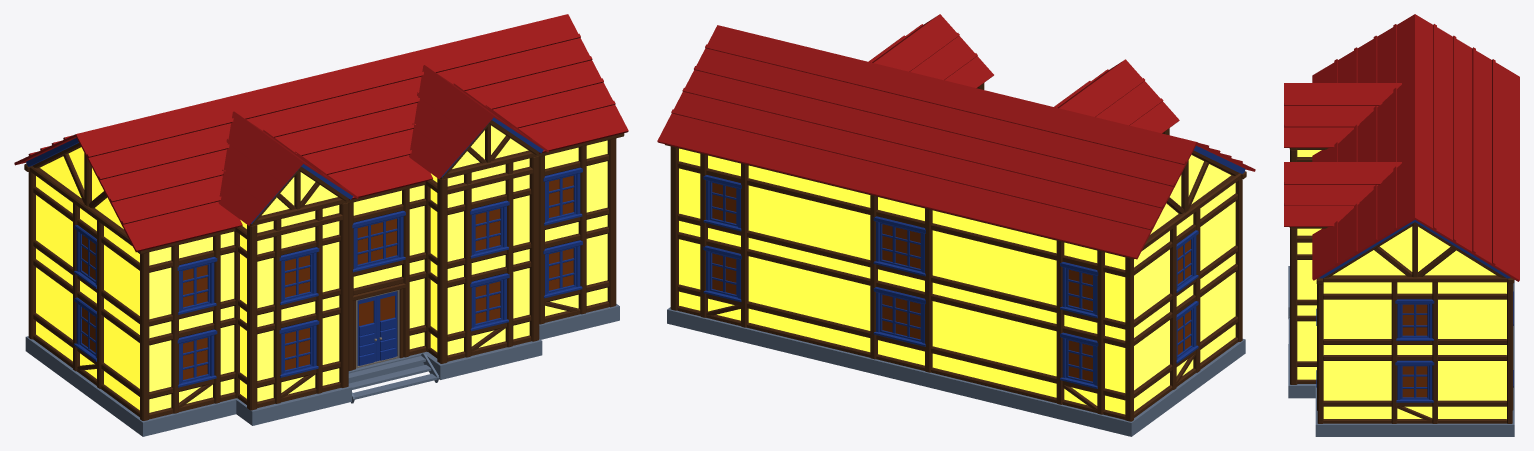
The model's file is house_02.glb.
3 views of the same model, side by side, from view 1: azimuth 30°, elevation 25°; view 2: azimuth 150°, elevation 25°; view 3: azimuth 270°, elevation 25° (orthographic). The views are drawn at different scales.
Visible parts, largest first — view 1: house_02.001; view 2: house_02.001; view 3: house_02.001.
Boxes of the visible parts, x1,y1,x2,y2 form: house_02.001: (14, 14, 628, 436); house_02.001: (657, 14, 1255, 436); house_02.001: (1284, 14, 1519, 436).
Bounding box in the file's own units: 17.96 × 9.25 × 8.78.
